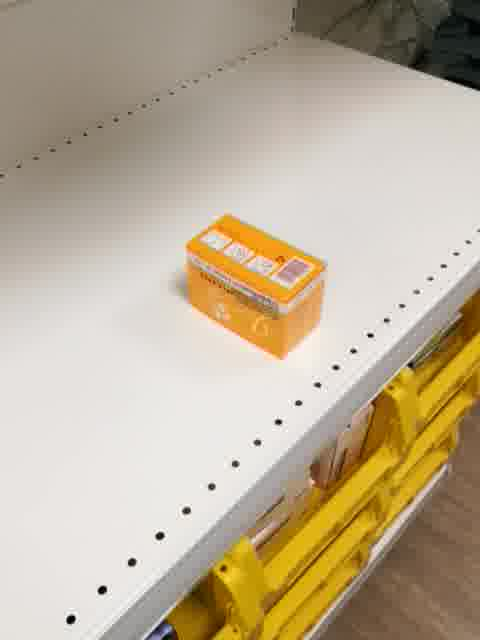jasminetea: (184, 213, 327, 361)
